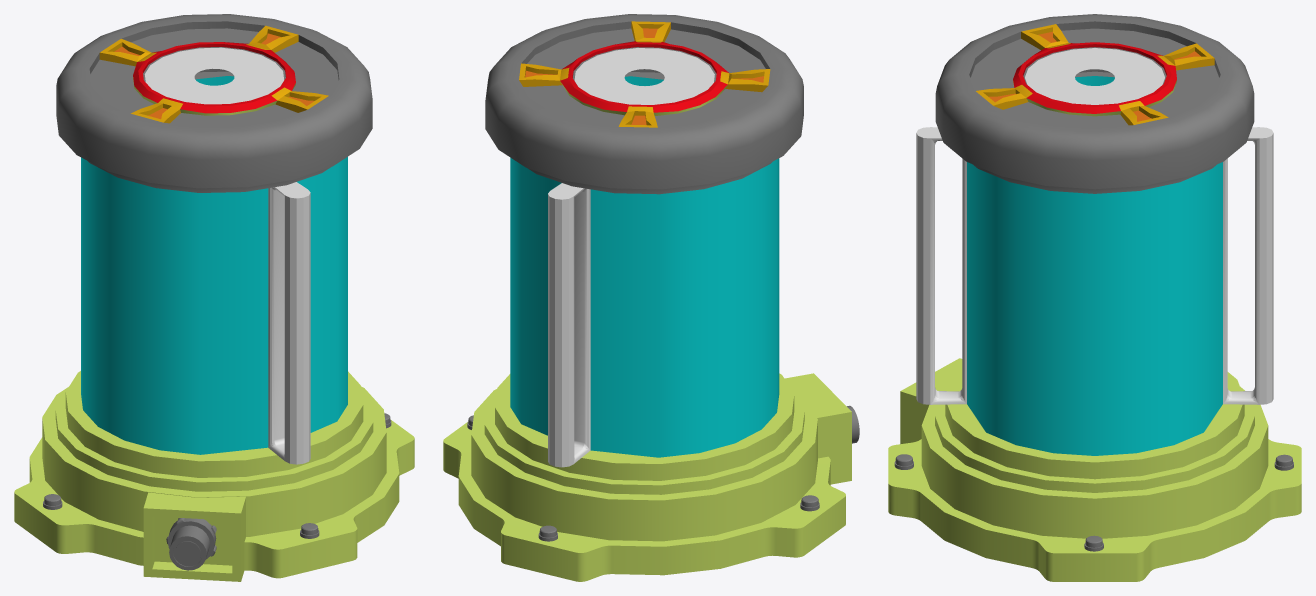
Rendered from CoolantContainerVisual.fbx.
3 views of the same model, side by side, from view 1: azimuth 30°, elevation 25°; view 2: azimuth 150°, elevation 25°; view 3: azimuth 270°, elevation 25° (orthographic).
Parts seen in each view (by area): view 1: Reactor; view 2: Reactor; view 3: Reactor.
Boxes of the visible parts, x1,y1,x2,y2 form: Reactor: (14, 14, 414, 581); Reactor: (443, 14, 859, 581); Reactor: (888, 14, 1301, 581).
Bounding box in the file's own units: 103 × 115 × 103.
